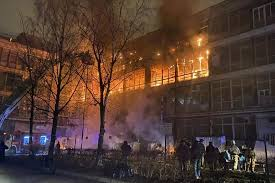fire: (81, 50, 212, 95)
